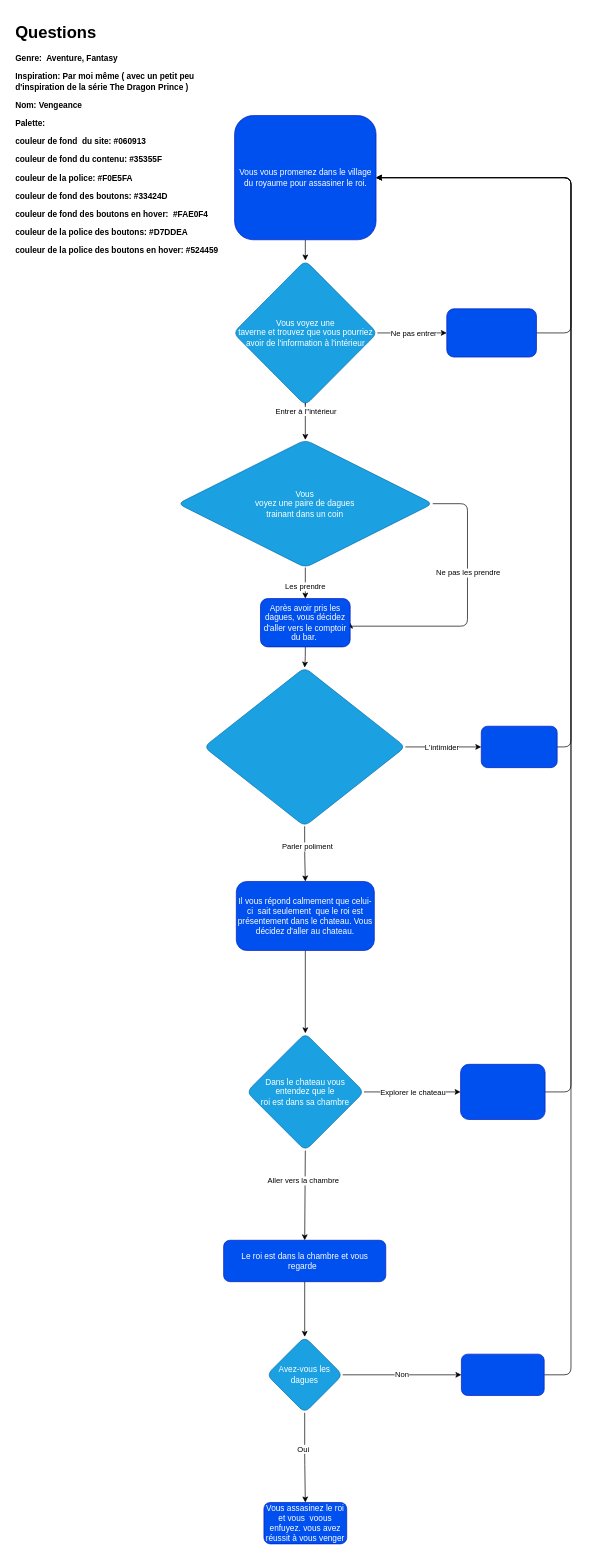
Some shapes in this 589 by 1556 pixel diagram are drawn without their labels. The shapes that lost their labels are listed below. From the top down, each one's centre as x and y in pixels, then its label:
At point (491, 332): "Se fait tuer par des bandits".
At point (304, 746): "Un soldat est assit a coté de vous, Comment lui demander de l'information".
At point (519, 747): "il décide de vous tuer".
At point (502, 1092): "vous vous fetes tuer par un soldat".
At point (502, 1374): "Le roi appelle dautre soldats et vous vous fetes emprisonner".
